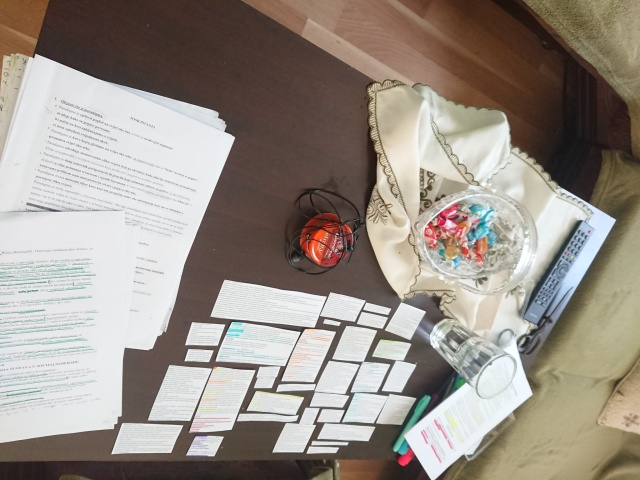Gavrilovic Pork Liver Pate 100g: (297, 210, 354, 269)
